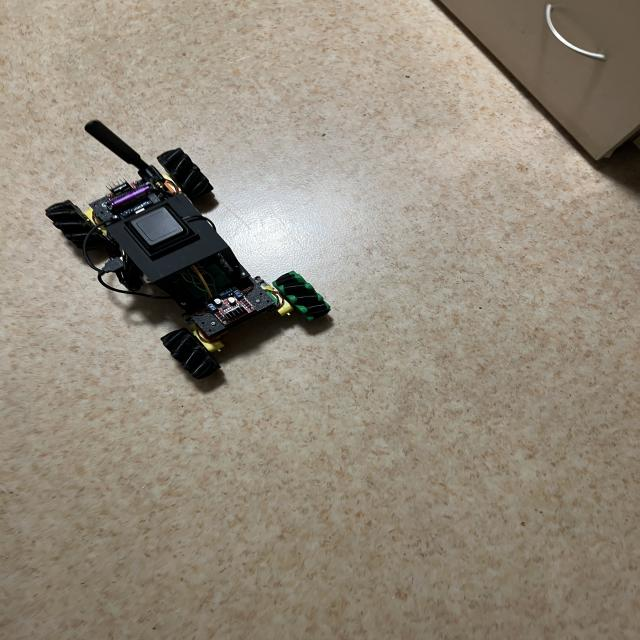robot: (46, 121, 330, 378)
